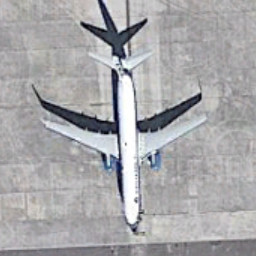Airplane: (31, 45, 216, 239)
